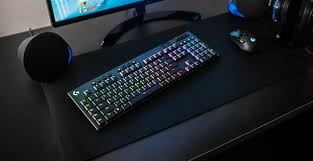keyboard: (21, 26, 227, 134)
mouse: (226, 21, 263, 61)
